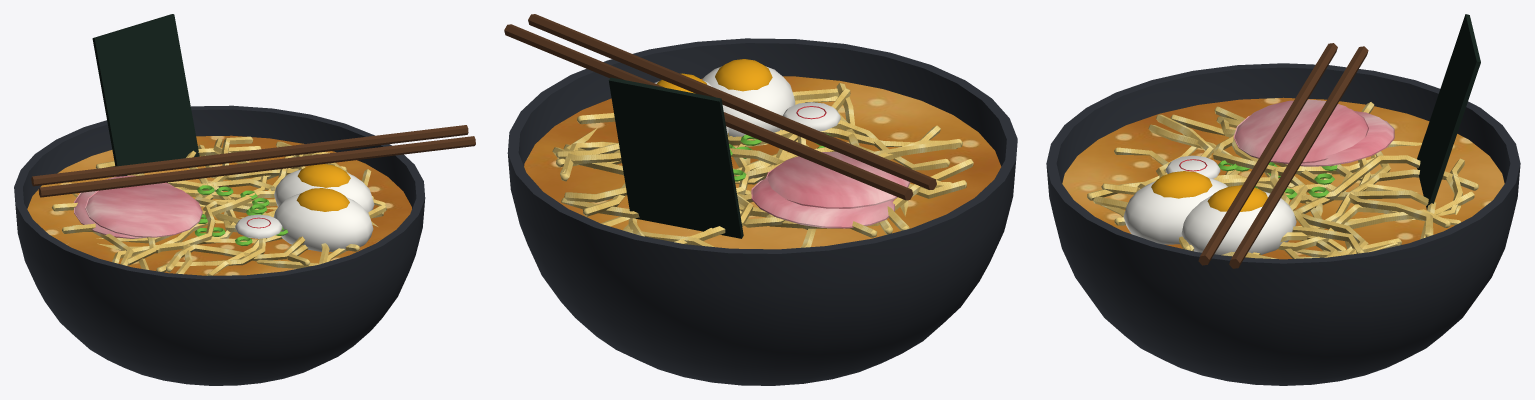
Rendered from meal_ramen_bowl.glb.
3 views of the same model, side by side, from view 1: azimuth 30°, elevation 25°; view 2: azimuth 150°, elevation 25°; view 3: azimuth 270°, elevation 25° (orthographic). The views are drawn at different scales.
Parts seen in each view (by area): view 1: meal_ramen_bowl; view 2: meal_ramen_bowl; view 3: meal_ramen_bowl.
Boxes of the visible parts, x1=… form: meal_ramen_bowl: x1=14, y1=14, x2=475, y2=385; meal_ramen_bowl: x1=504, y1=14, x2=1017, y2=385; meal_ramen_bowl: x1=1046, y1=14, x2=1520, y2=385.
Bounding box in the file's own units: 0.2388 × 0.1454 × 0.21.
11 materials, 3 textured.
